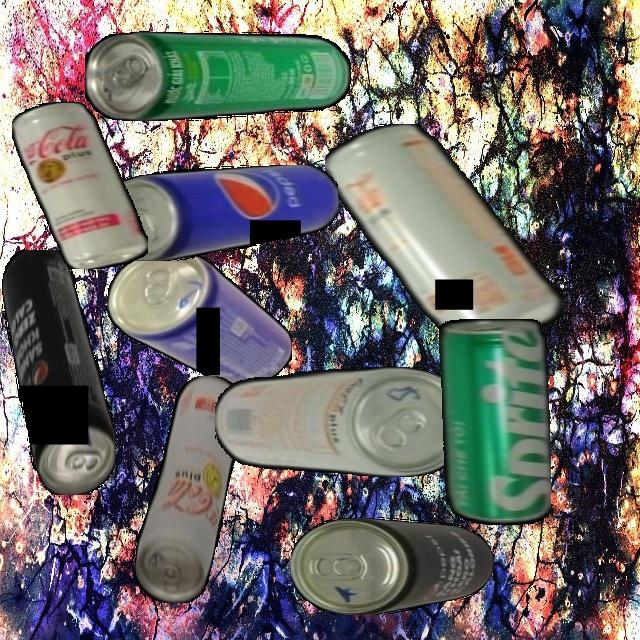debris: (325, 123, 563, 348), (214, 366, 467, 477), (1, 249, 115, 495), (108, 248, 292, 385), (85, 30, 351, 121), (133, 375, 238, 603), (438, 319, 551, 525), (101, 164, 338, 261), (12, 101, 148, 269), (291, 516, 494, 615)
